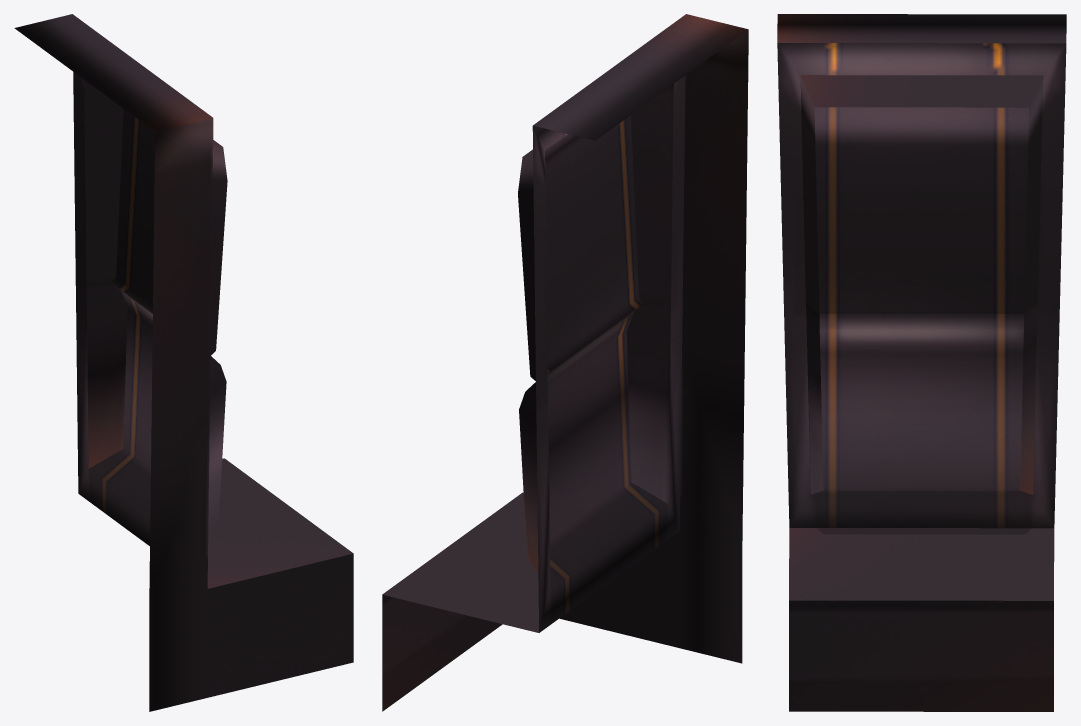
File: Tx_props_judges_chair_10.fbx
The picture shows the model from 3 angles, left to right: view 1: azimuth 30°, elevation 25°; view 2: azimuth 150°, elevation 25°; view 3: azimuth 270°, elevation 25°; orthographic projection. The views are drawn at different scales.
Parts seen in each view (by area): view 1: polySurface24; view 2: polySurface24; view 3: polySurface24.
Boxes of the visible parts, left/top/right/bottom form: polySurface24: left=14, top=14, right=353, bottom=711; polySurface24: left=382, top=14, right=748, bottom=711; polySurface24: left=777, top=14, right=1066, bottom=711.
Size of the model in its own units: 4.14 by 11.27 by 4.96.
